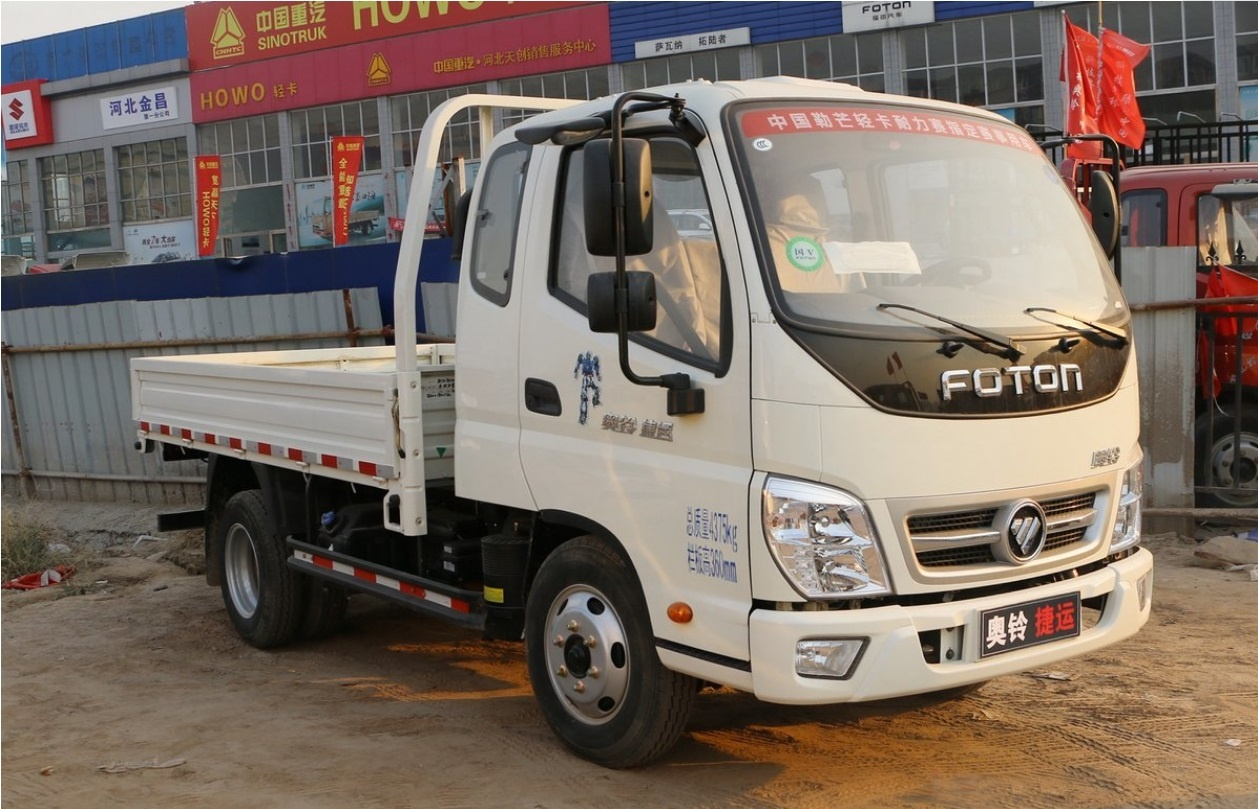truck: (130, 76, 1196, 758)
